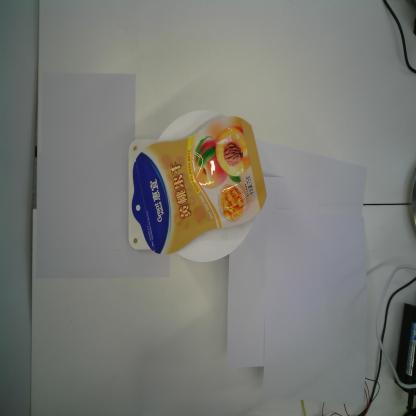Dried Fruit: (132, 115, 267, 255)
